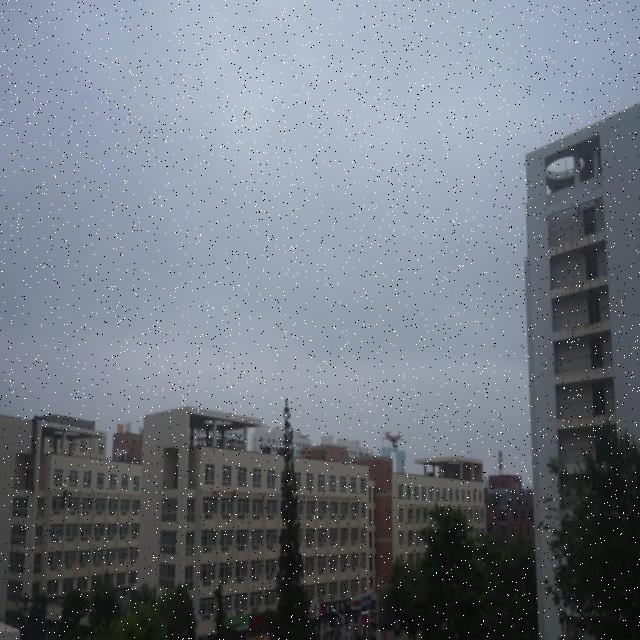UAV: (382, 431, 403, 451)
